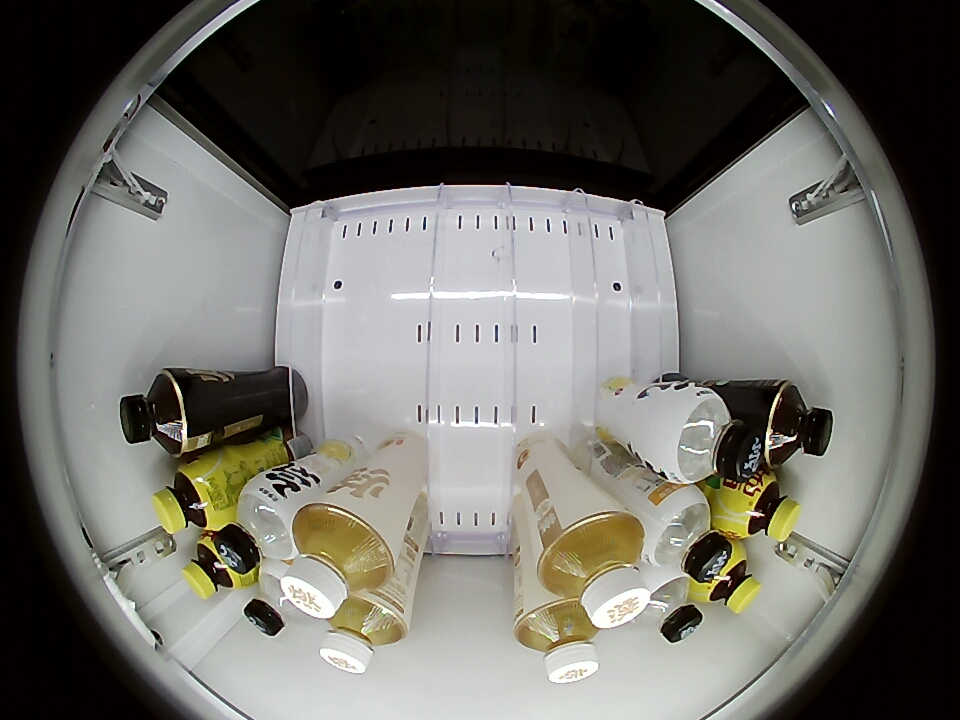rancha-1: (761, 382, 834, 468), (119, 370, 188, 455)
rancha-2: (533, 509, 650, 629), (281, 501, 397, 619), (515, 599, 601, 684), (321, 593, 407, 675)
weitaningmeng-bottle: (152, 457, 227, 534), (723, 471, 802, 543), (182, 533, 249, 600), (697, 547, 762, 614)
yuanqishui: (649, 384, 764, 484), (637, 484, 732, 581), (214, 479, 305, 573), (629, 569, 702, 643), (245, 560, 307, 636)
